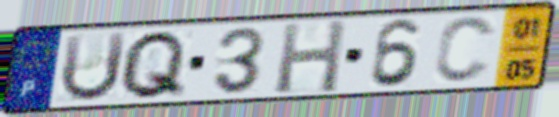3: (209, 24, 268, 96)
6: (367, 16, 425, 91)
C: (430, 14, 500, 86)
H: (273, 17, 349, 96)
Q: (115, 28, 190, 102)
U: (57, 29, 131, 105)
